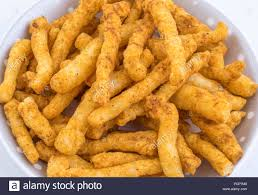kurkure: (1, 2, 256, 177)
